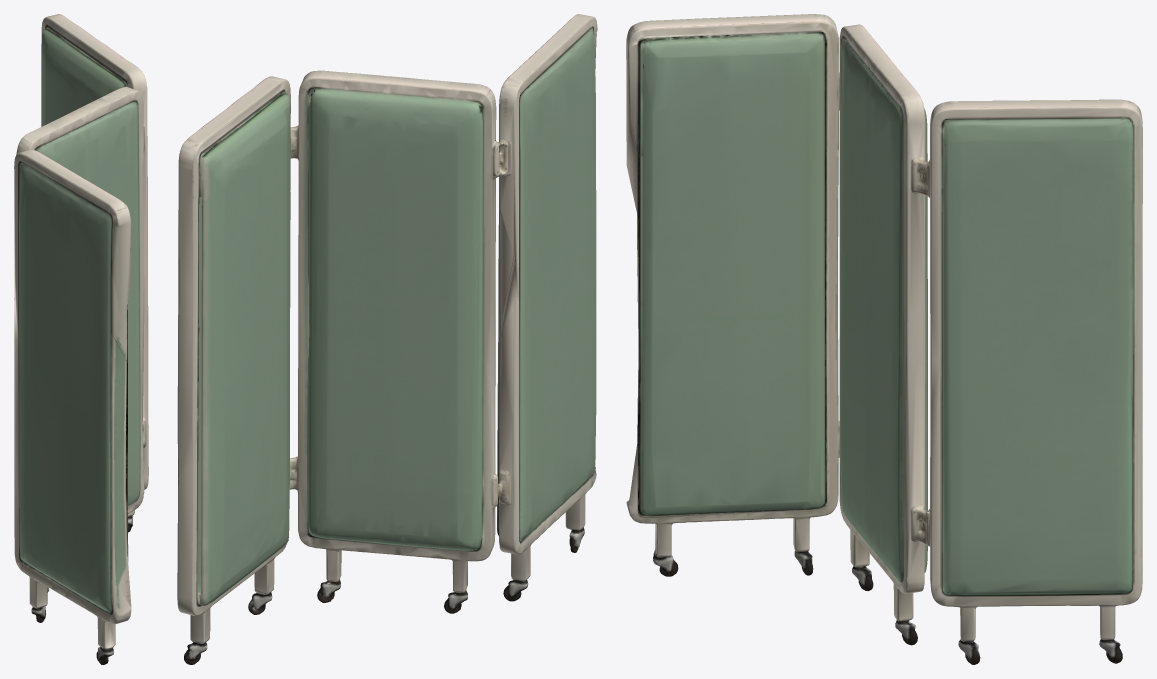
File: repaired.glb
3 renders of one model, left to right at view 1: azimuth 30°, elevation 25°; view 2: azimuth 150°, elevation 25°; view 3: azimuth 270°, elevation 25°, orthographic. The views are drawn at different scales.
Parts seen in each view (by area): view 1: repaired; view 2: repaired; view 3: repaired.
Boxes of the visible parts, x1,y1,x2,y2 form: repaired: (14,14,148,664); repaired: (177,14,597,664); repaired: (626,14,1142,664).
Size of the model in its own units: 0.4028 by 1 by 0.8402.
1 material, 1 textured.
